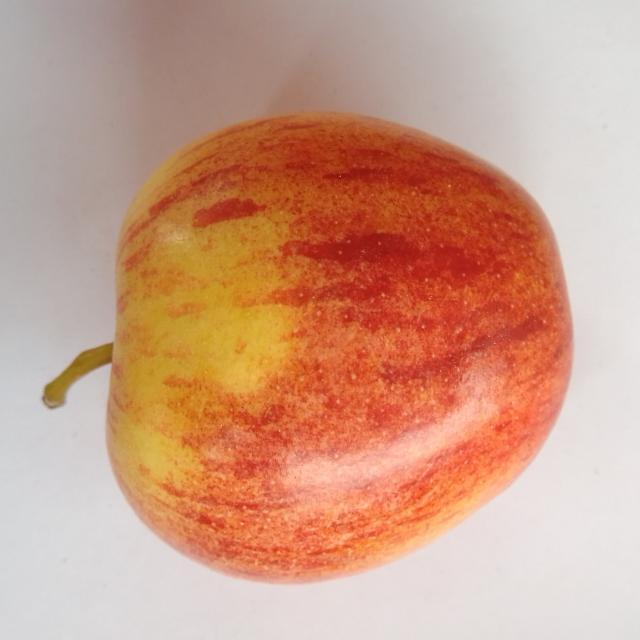Fresh Apple: (105, 110, 575, 585)
